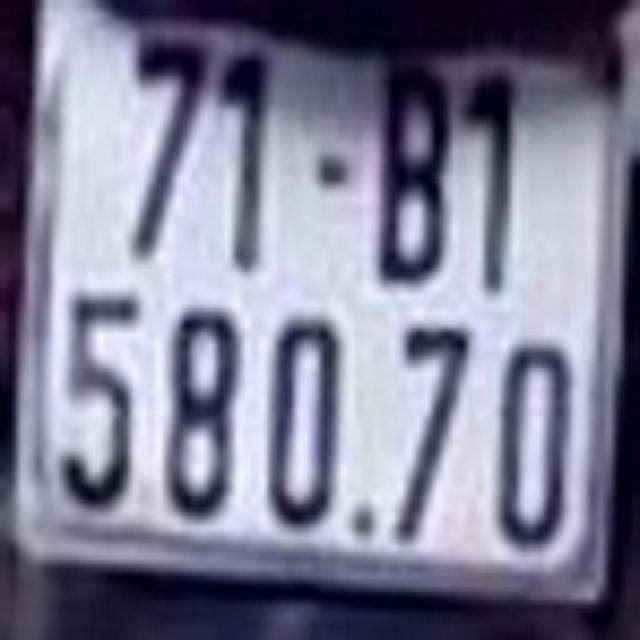0: (492, 322, 568, 557), (264, 306, 338, 529)
1: (210, 33, 280, 281), (460, 58, 518, 295)
5: (63, 284, 137, 506)
7: (132, 26, 208, 263), (398, 316, 475, 540)
8: (168, 306, 235, 520)
B: (378, 50, 452, 288)
